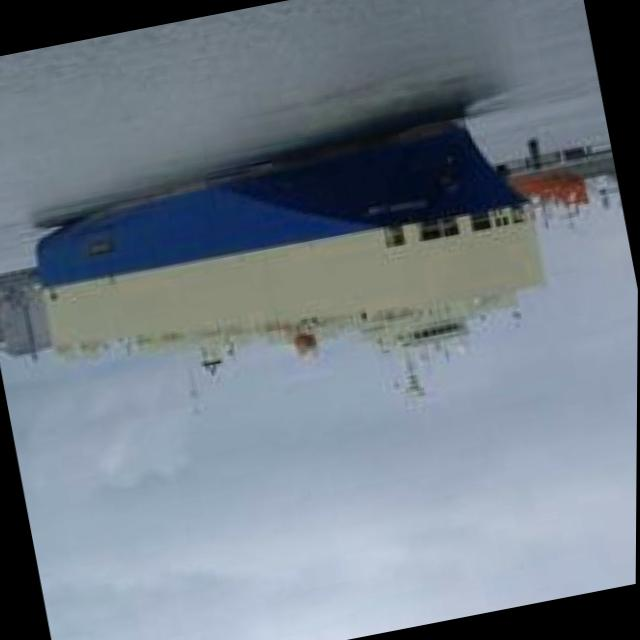ship2: (33, 116, 547, 415)
